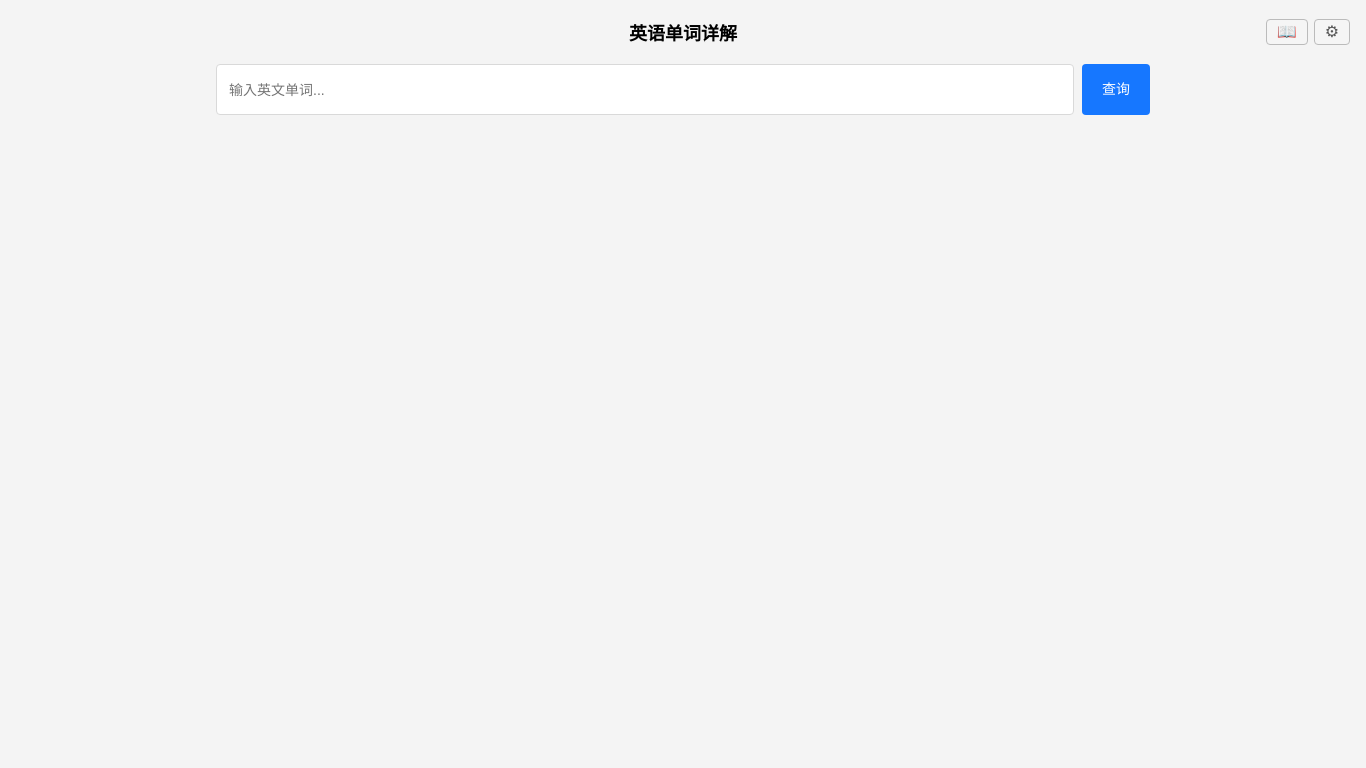
MainPage 历史面板 › 点击历史面板返回按钮回到主界面
Click the button titled "查词历史". click: click(1287, 32)
box: [1266,19,1308,45]
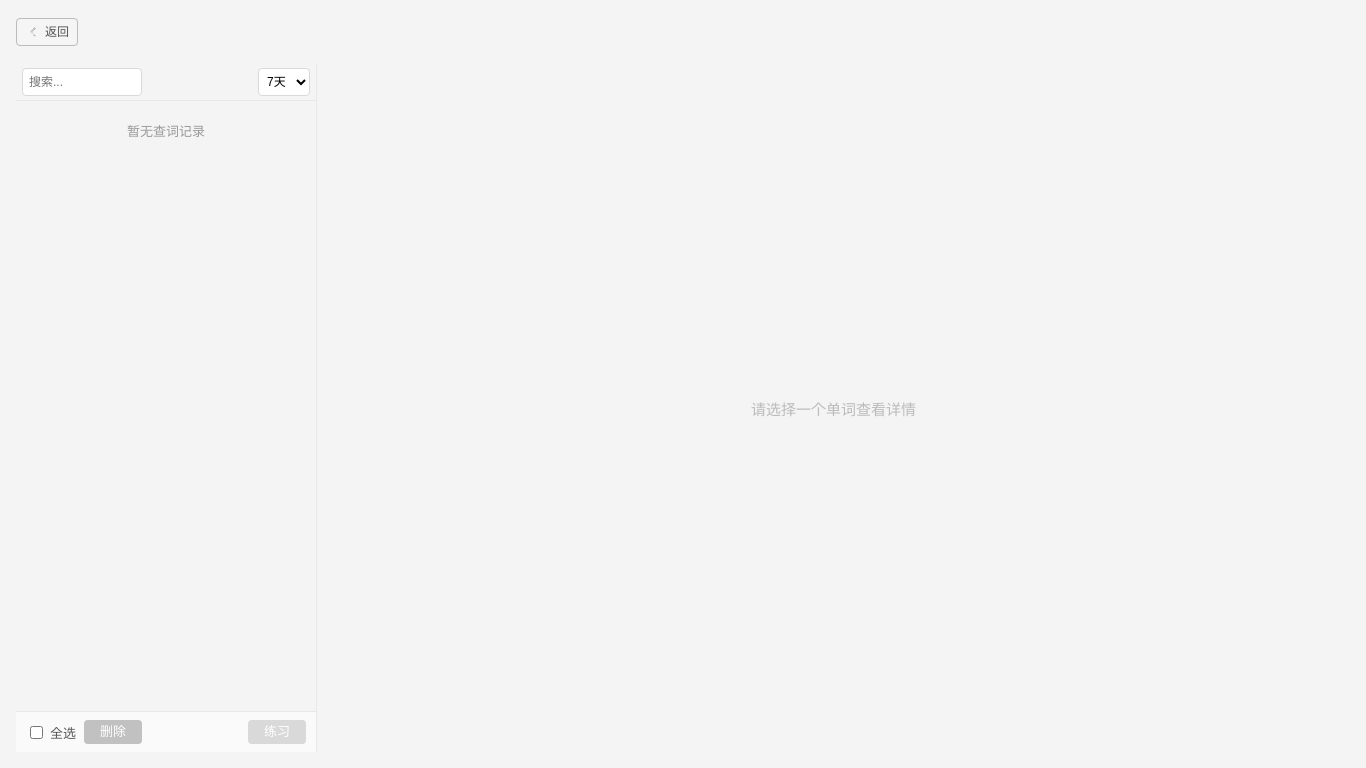
Click the button "返回". click: click(47, 32)
box: [16,18,78,46]
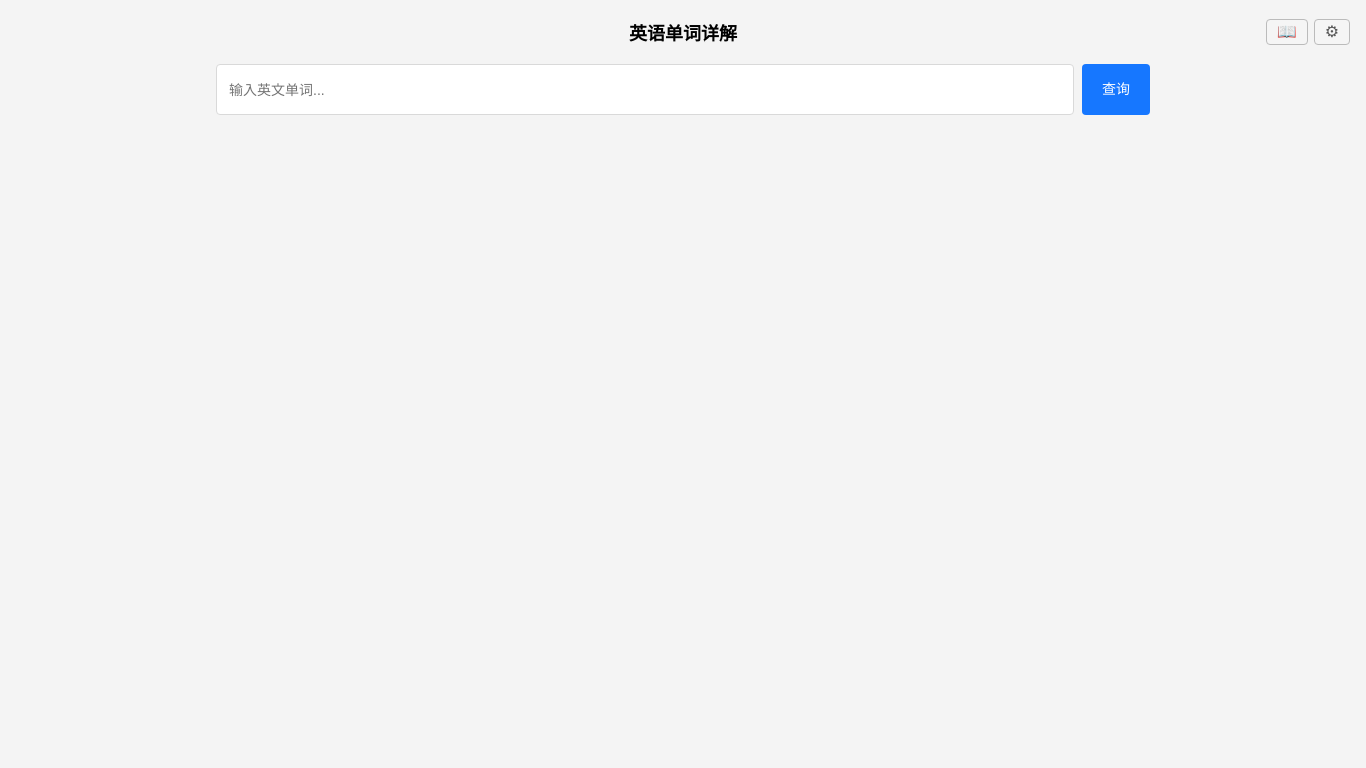
Now the field with placeholder "输入英文单词..." is shown, box [216,64,1074,115]
